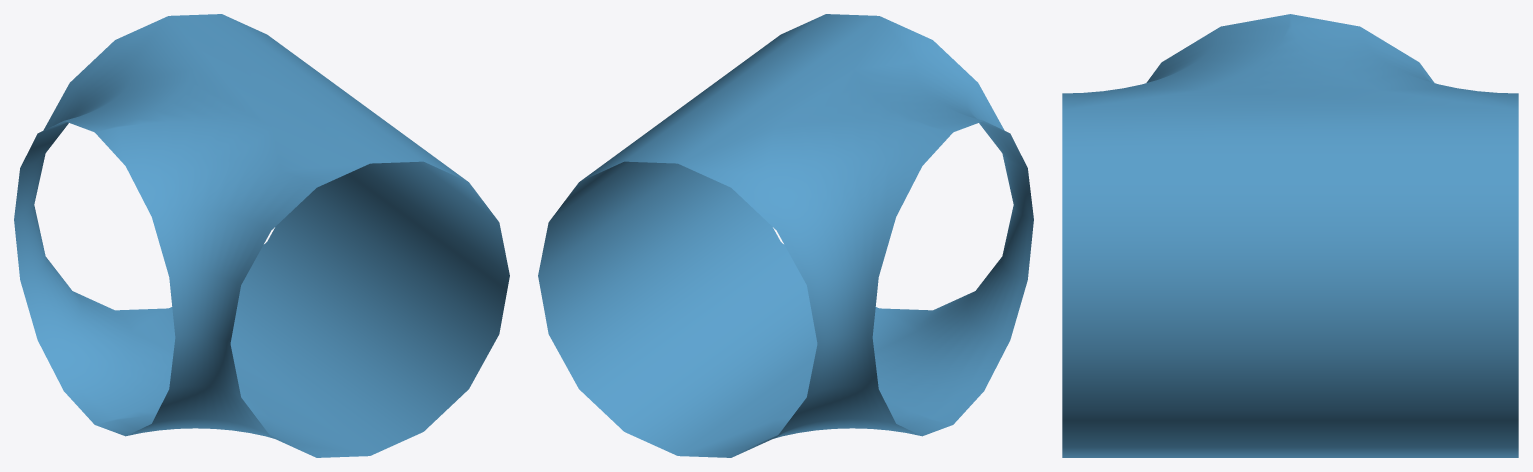
The model's file is pipe-intersection-1.obj.
3 views of the same model, side by side, from view 1: azimuth 30°, elevation 25°; view 2: azimuth 150°, elevation 25°; view 3: azimuth 270°, elevation 25° (orthographic). The views are drawn at different scales.
Parts seen in each view (by area): view 1: Torus_Torus.002; view 2: Torus_Torus.002; view 3: Torus_Torus.002.
Part boxes in pixels (x1=…): Torus_Torus.002: x1=14, y1=14, x2=509, y2=457; Torus_Torus.002: x1=538, y1=14, x2=1033, y2=457; Torus_Torus.002: x1=1062, y1=14, x2=1518, y2=457.
Size of the model in its own units: 0.9 by 0.8 by 1.
